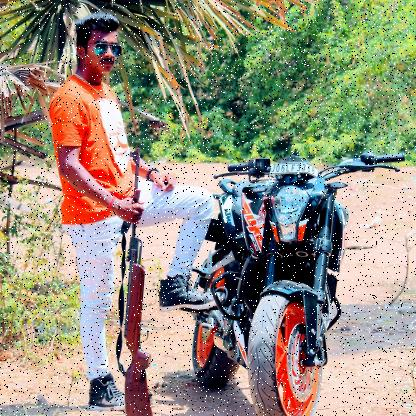rifle: (122, 146, 154, 416)
